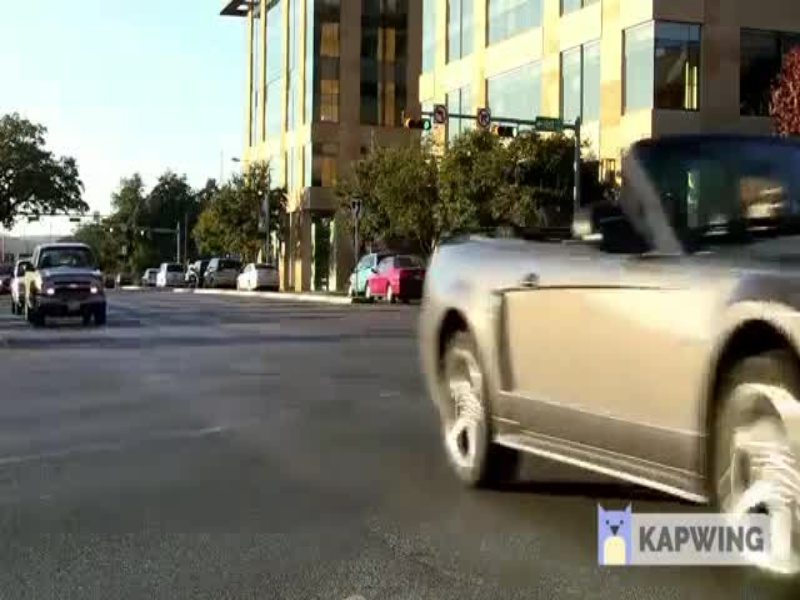car: (408, 142, 800, 533)
truck: (22, 242, 116, 322)
